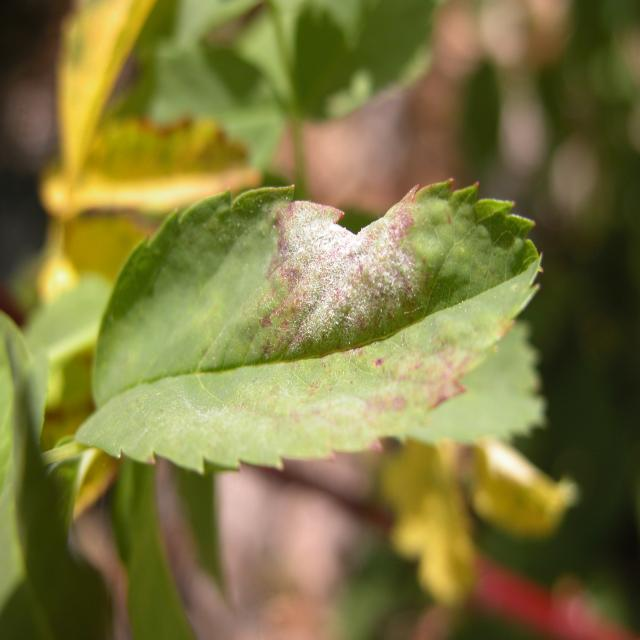Chlorosis: (75, 174, 546, 476)
Powdery Mildew: (256, 187, 424, 361)
